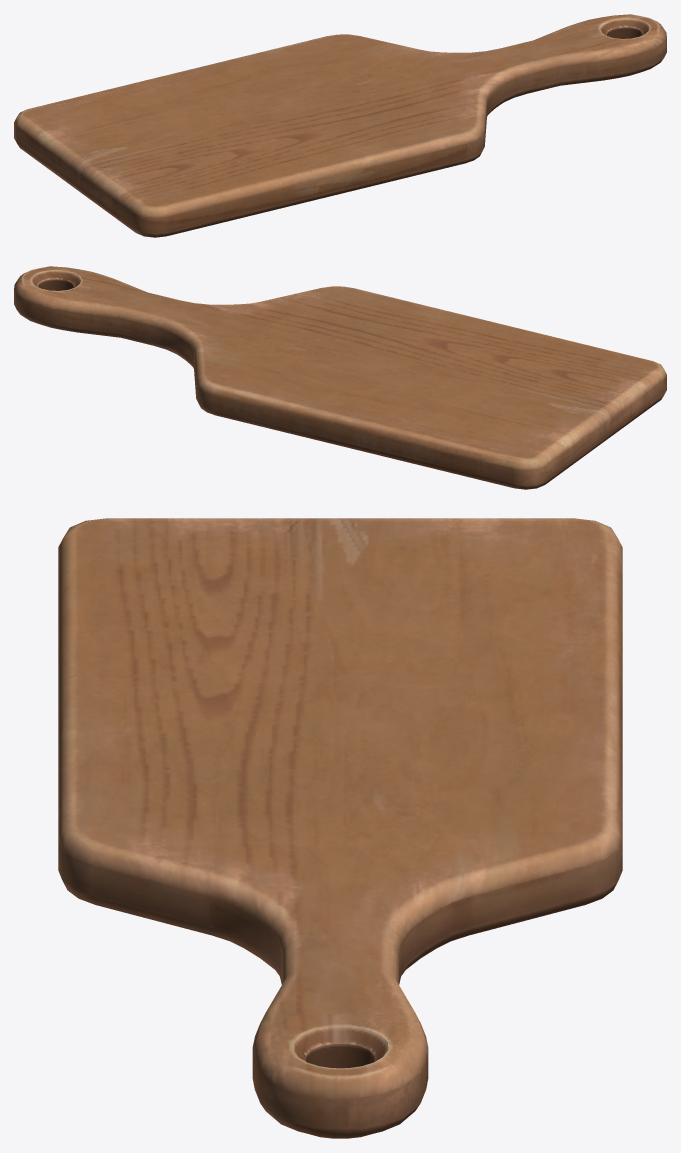
Rendered from SM_PlancheDecouper.fbx.
The picture shows the model from 3 angles, top to bottom: view 1: azimuth 30°, elevation 25°; view 2: azimuth 150°, elevation 25°; view 3: azimuth 270°, elevation 25°; orthographic projection. The views are drawn at different scales.
Parts seen in each view (by area): view 1: SM_PlancheDecouper_LOD0; view 2: SM_PlancheDecouper_LOD0; view 3: SM_PlancheDecouper_LOD0.
Part boxes in pixels (bbox=[...]): SM_PlancheDecouper_LOD0: bbox=[14, 14, 666, 237]; SM_PlancheDecouper_LOD0: bbox=[14, 266, 666, 489]; SM_PlancheDecouper_LOD0: bbox=[58, 518, 622, 1138].
Size of the model in its own units: 64.02 by 26.69 by 3.22.
Materials: 1 (1 with a texture image).
